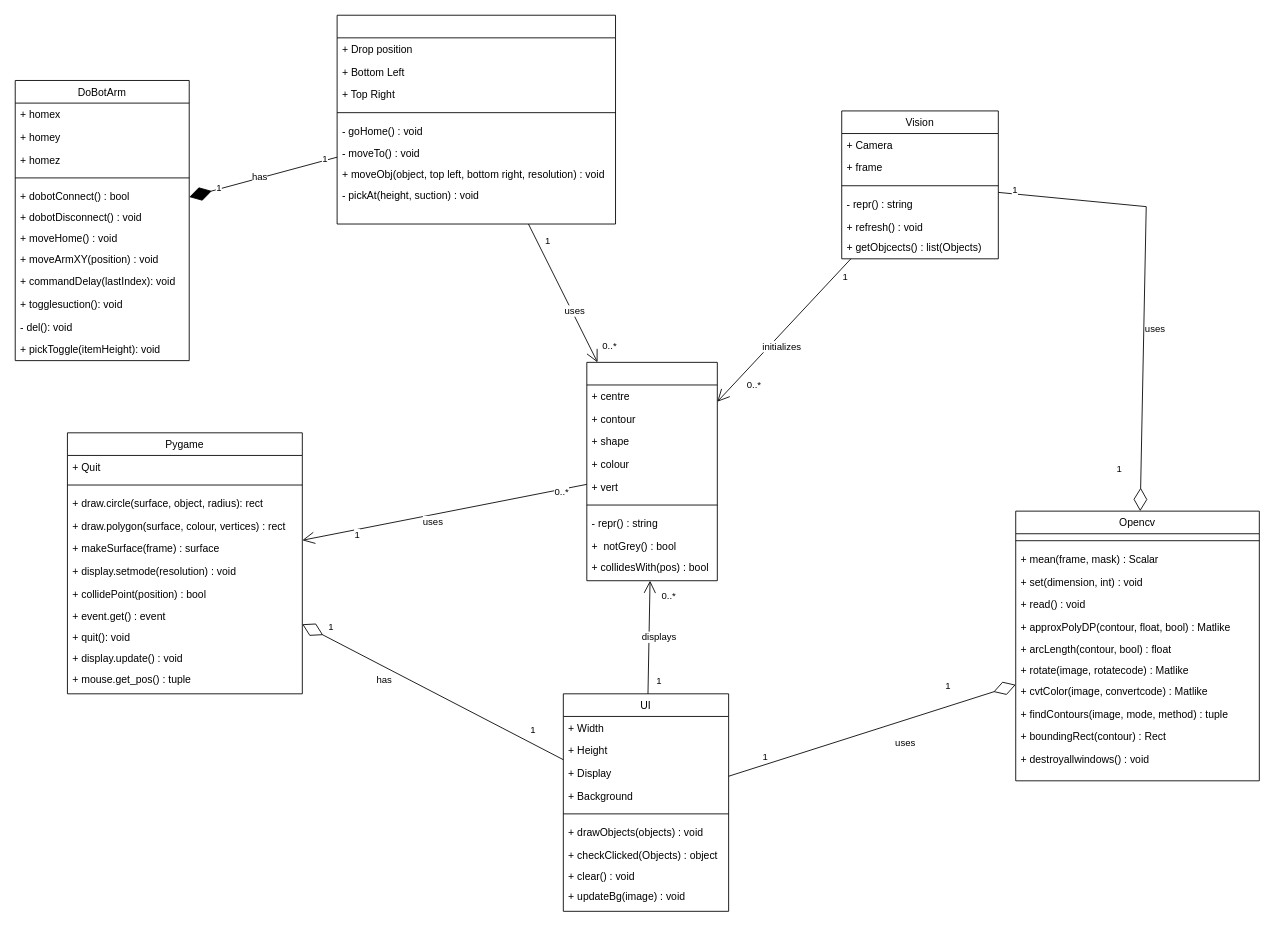
Image size: 1275x927. Some labels were removed from this diagram. The shapes that lost their labels are listed below. From the top down, each one's box as (x1, y1, x2, y2) in pixels, then its label:
(336, 14, 616, 224): Movement
(586, 361, 717, 581): Object
